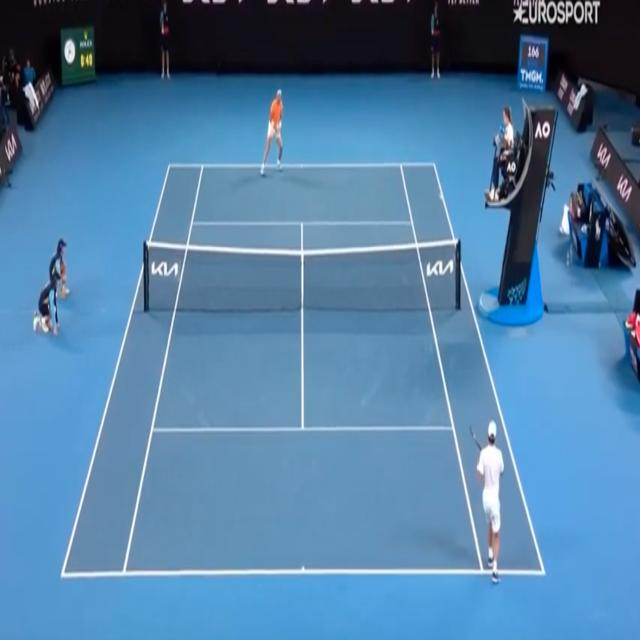ball: (438, 191, 444, 202)
